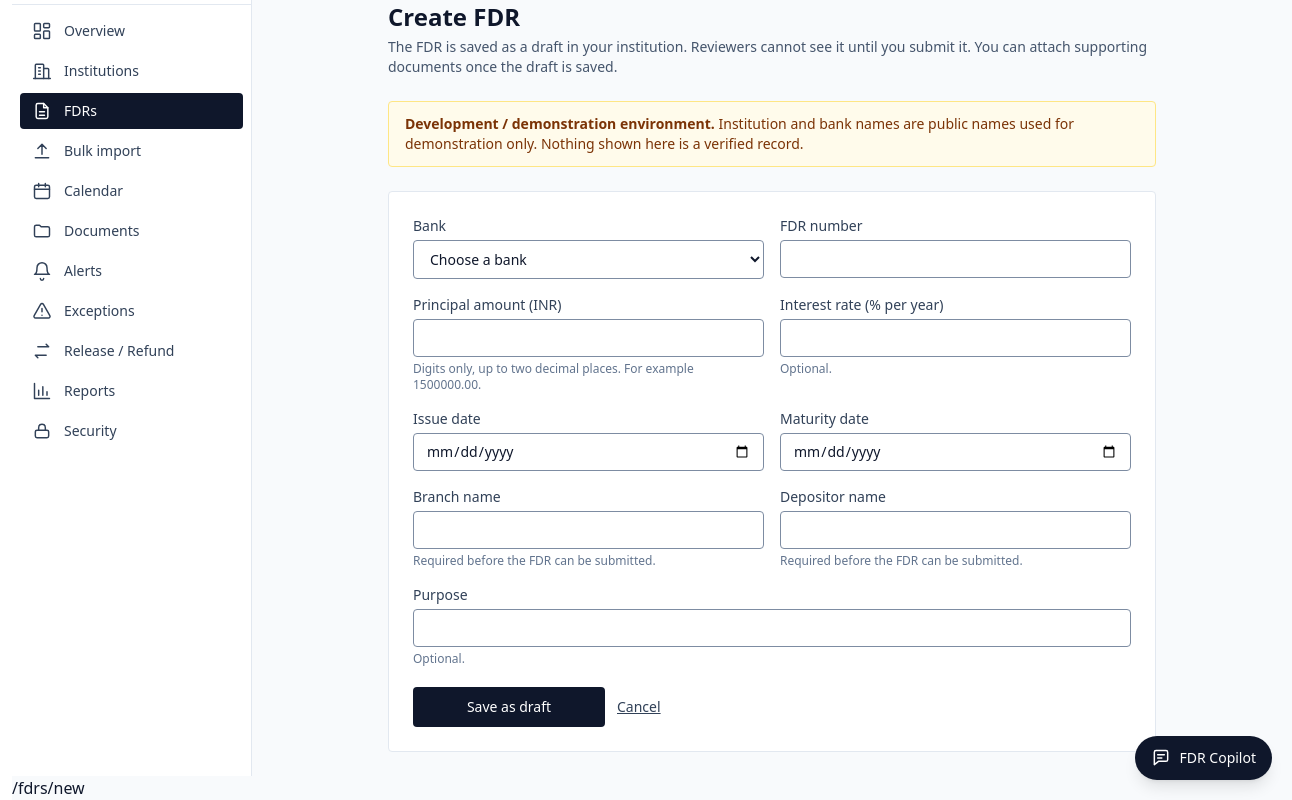
Test: create form › validates on the client and sends nothing while the form is invalid
The image size is (1292, 800).
(page scrolled)
Check: the heading "Create FDR" is shown, box [388,0,520,33]
Click the button "Save as draft".
click(509, 707)  # box [413,687,605,727]
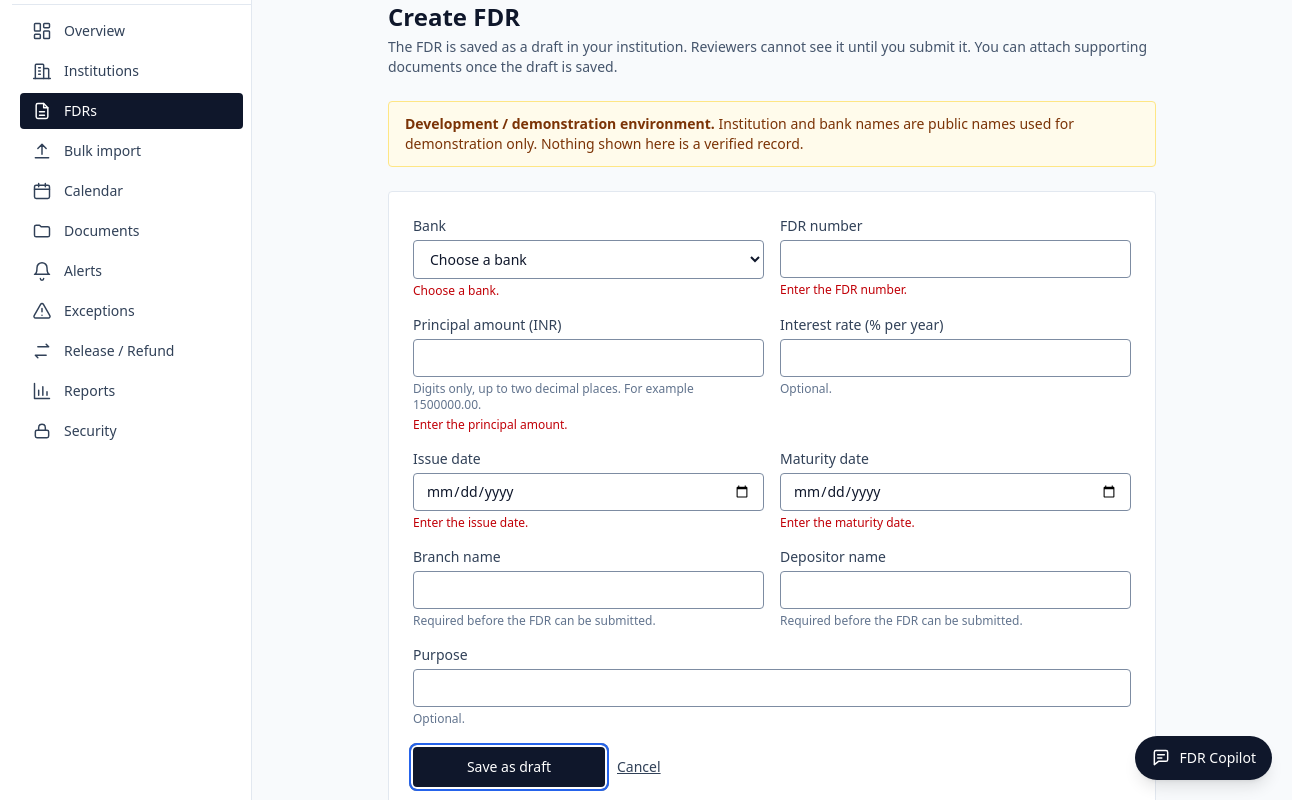
Check: the text "Choose a bank." is shown, box [413,282,499,299]
Check: the text "Enter the FDR number." is shown, box [780,281,907,298]
Check: the text "Enter the principal amount." is shown, box [413,416,568,433]
